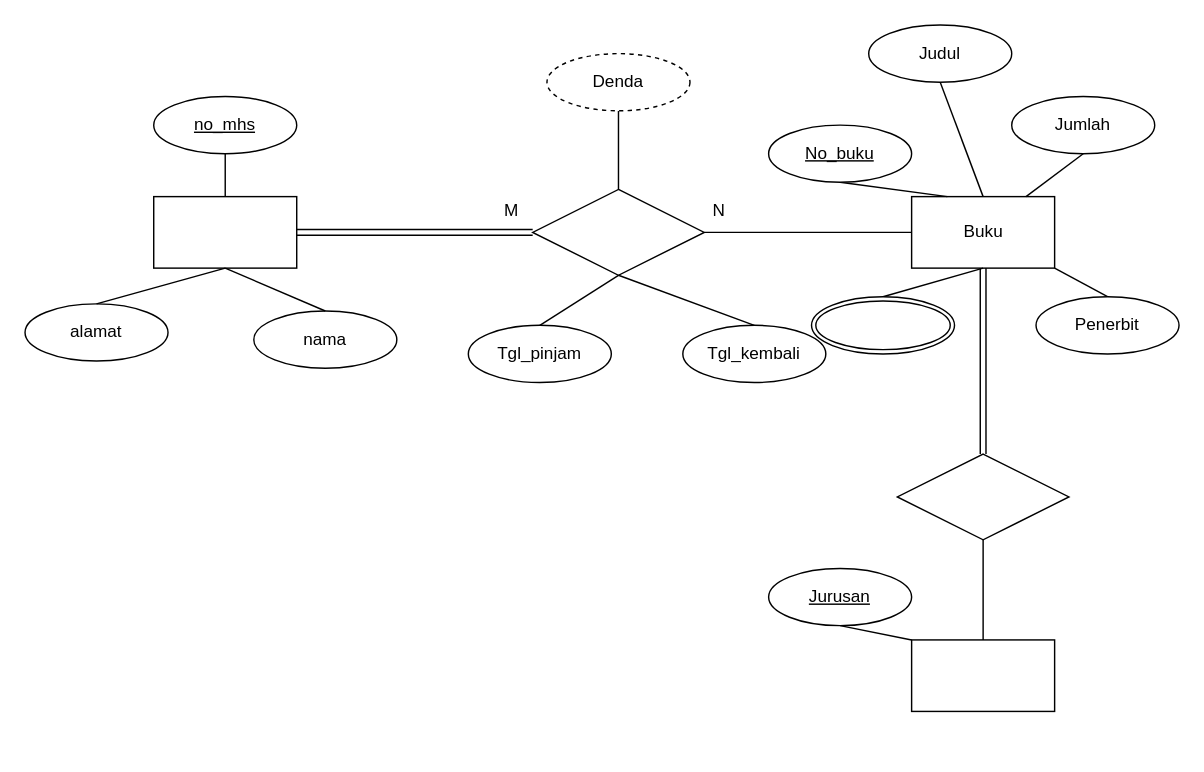
Some shapes in this 1204 by 772 pixel diagram are drawn without their labels. Here are the shapes that lost their labels. From the top down, the box of each, then its label:
(152, 195, 297, 268): Mahasiswa
(531, 188, 704, 275): Meminjam
(810, 295, 955, 354): Pengarang
(896, 453, 1069, 540): Milik
(910, 638, 1055, 711): Perpustakaan
